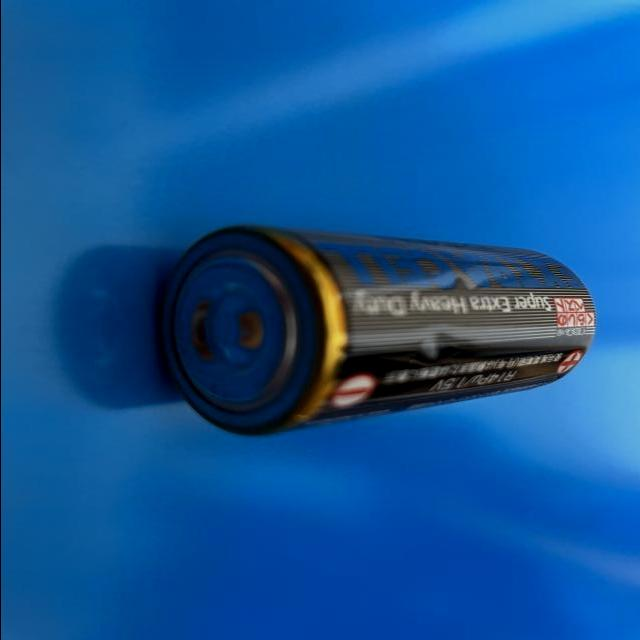AA: (152, 219, 598, 444)
